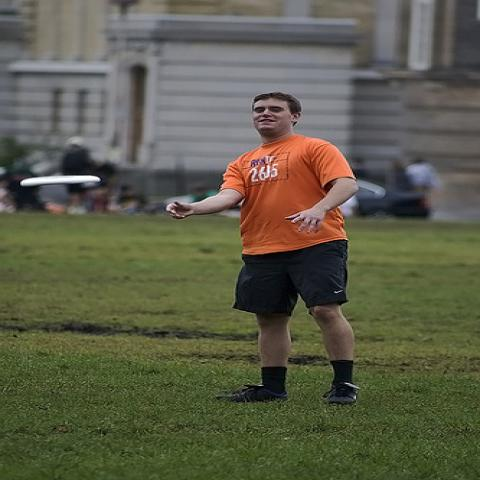car: (350, 174, 434, 219)
